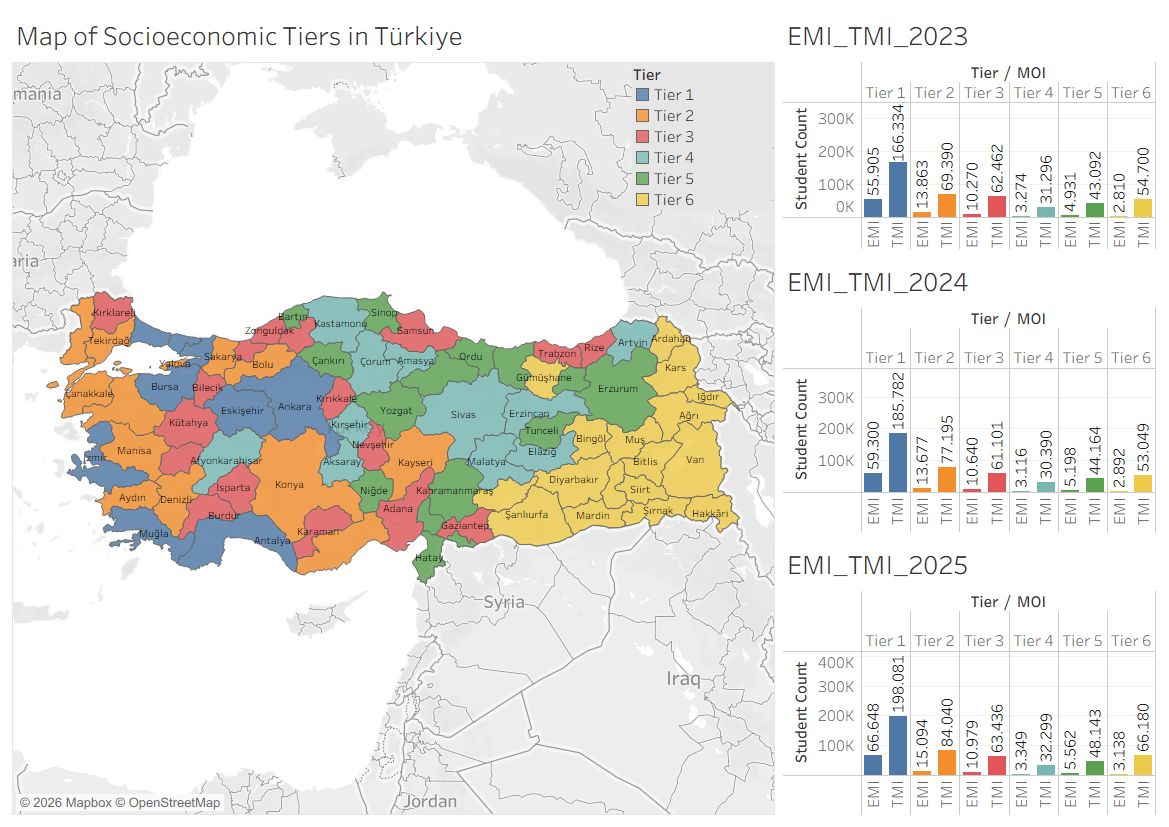

The dashboard page shown, as its layout file describes it:
{"tool":"tableau","page":{"name":"Dashboard 1","canvas":[1169,827],"ordinal":0},"visuals":[{"type":"worksheet","title":"Tier Map","mark":"Multipolygon","box":[8,8,771,811]},{"type":"worksheet","title":"EMI_TMI_2023","mark":"Automatic","rows":["Pivot Field Values"],"cols":["Tier_Label","Pivot Field Names"],"box":[779,8,382,246]},{"type":"legend","title":"Tier Map","param":"[federated.0b390050nmdnhi16t98n41ymi8ju].[none:Tier_Label:nk]","box":[632,62,140,148]},{"type":"worksheet","title":"EMI_TMI_2024","mark":"Bar","rows":["Pivot Field Values"],"cols":["Tier_Label","Pivot Field Names"],"box":[779,254,382,282.5]},{"type":"worksheet","title":"EMI_TMI_2025","mark":"Bar","rows":["Pivot Field Values"],"cols":["Tier_Label","Pivot Field Names"],"box":[779,536.5,382,282.5]}]}

Visuals, with their boxes in screenshot pixels (x1, y1, x2, y2), scaled from the page's 1169x827 canvas onto the 1169x827 screenshot:
"Tier Map" worksheet (Multipolygon marks): 8,8,779,819
"EMI_TMI_2023" worksheet: 779,8,1161,254
"Tier Map" legend: 632,62,772,210
"EMI_TMI_2024" worksheet (Bar marks): 779,254,1161,536
"EMI_TMI_2025" worksheet (Bar marks): 779,536,1161,819
